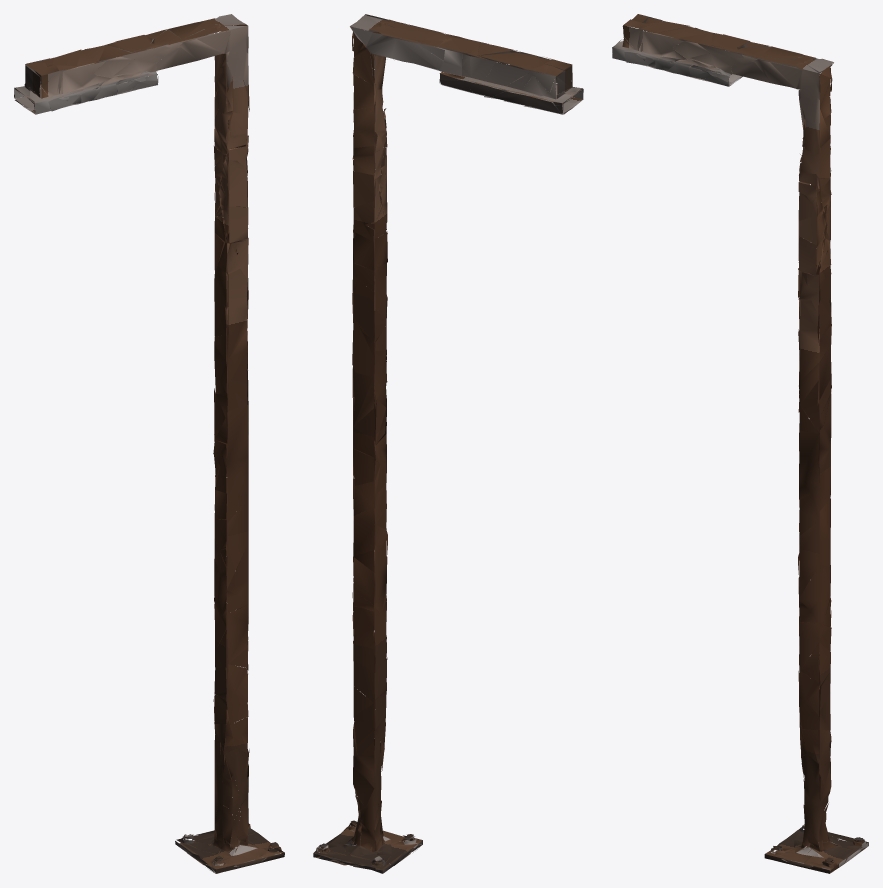
File: lamp.glb
3 views of the same model, side by side, from view 1: azimuth 30°, elevation 25°; view 2: azimuth 150°, elevation 25°; view 3: azimuth 330°, elevation 25° (orthographic). The views are drawn at different scales.
Visible parts, largest first — view 1: LO.001; view 2: LO.001; view 3: LO.001.
Boxes of the visible parts, <box> form: LO.001: <box>14,14,284,873</box>; LO.001: <box>313,14,583,873</box>; LO.001: <box>612,14,868,873</box>.
Bounding box in the file's own units: 0.5798 × 1.91 × 0.1713.
1 material, 1 textured.
